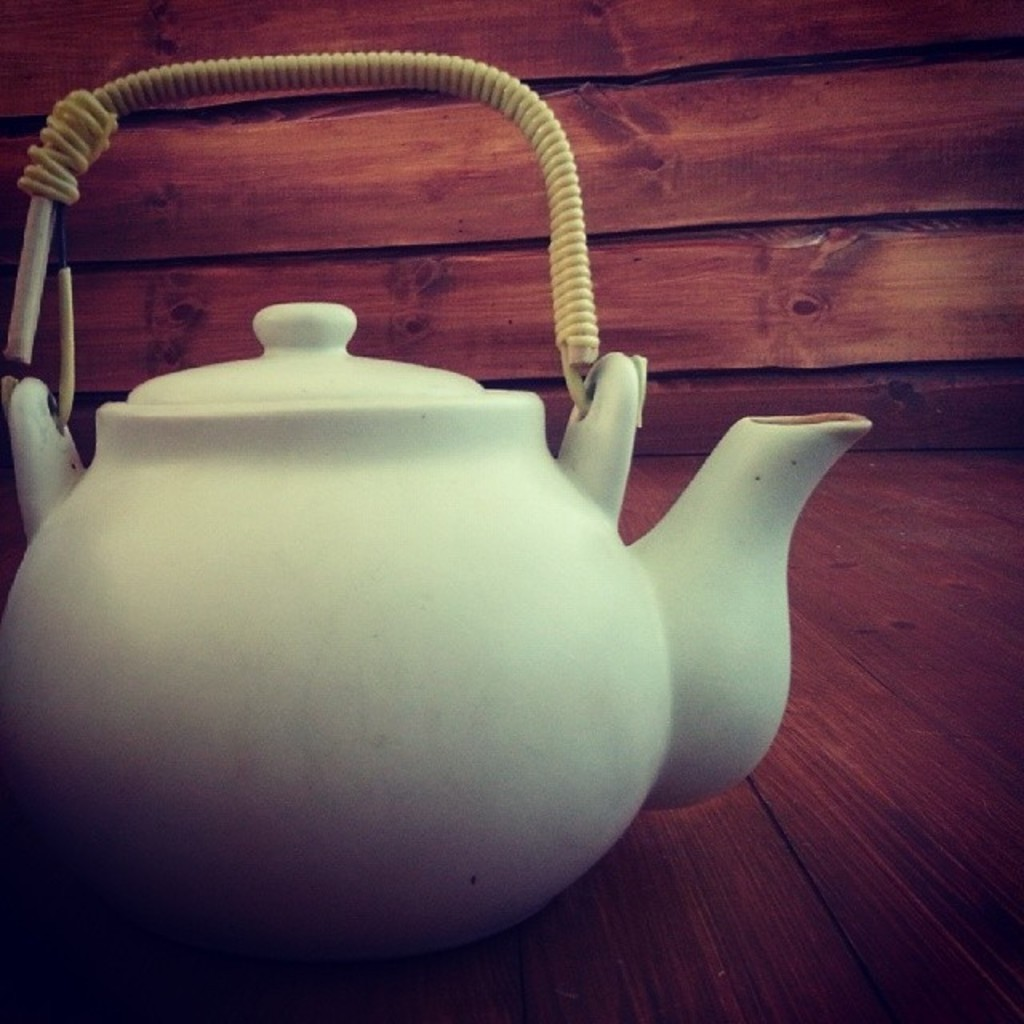teapot: (1, 48, 873, 965)
